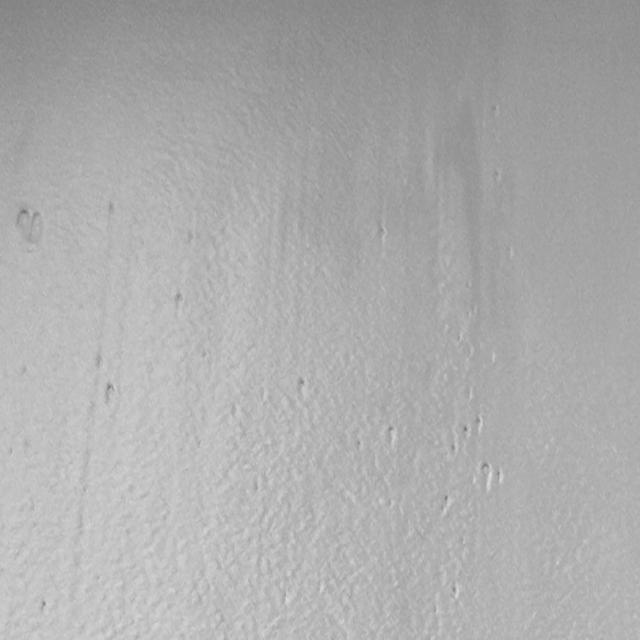pin holes: (12, 204, 45, 249), (102, 382, 122, 412), (293, 376, 311, 402), (171, 287, 189, 313), (479, 461, 495, 490), (373, 222, 391, 247), (483, 465, 502, 488), (36, 598, 55, 620), (385, 425, 402, 447), (448, 580, 465, 602), (472, 415, 487, 438), (93, 354, 108, 374), (354, 437, 366, 454), (462, 423, 473, 441), (448, 441, 459, 459), (441, 494, 452, 512), (108, 196, 116, 217)
